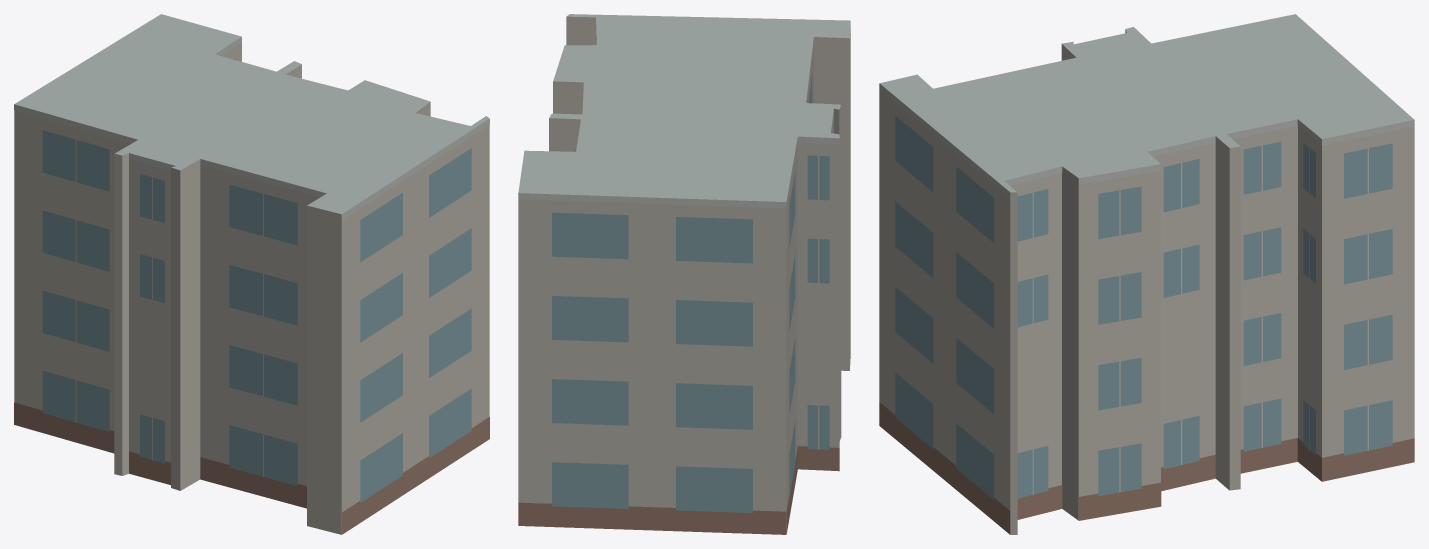
The model's file is survey-upis-32746731.glb.
3 renders of one model, left to right at view 1: azimuth 30°, elevation 25°; view 2: azimuth 150°, elevation 25°; view 3: azimuth 270°, elevation 25°, orthographic. The views are drawn at different scales.
Visible parts, largest first — view 1: survey-upis-32746731.tmp; view 2: survey-upis-32746731.tmp; view 3: survey-upis-32746731.tmp.
Part boxes in pixels (<box>): survey-upis-32746731.tmp: <box>14,14,489,534</box>; survey-upis-32746731.tmp: <box>518,14,850,534</box>; survey-upis-32746731.tmp: <box>879,14,1414,534</box>.
Bounding box in the file's own units: 14.3 × 12.8 × 18.13.
